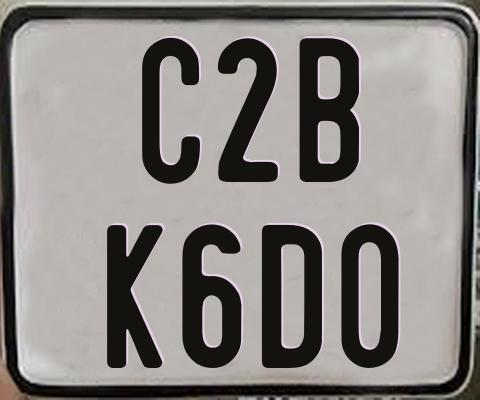0: (340, 221, 402, 367)
2: (215, 35, 276, 184)
6: (180, 223, 243, 372)
B: (299, 38, 364, 187)
C: (141, 36, 200, 186)
D: (259, 225, 324, 370)
K: (105, 222, 163, 366)
